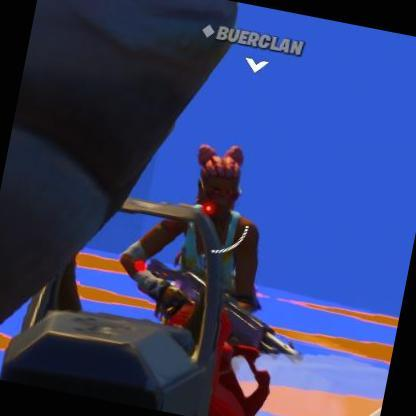person: (156, 151, 306, 410)
